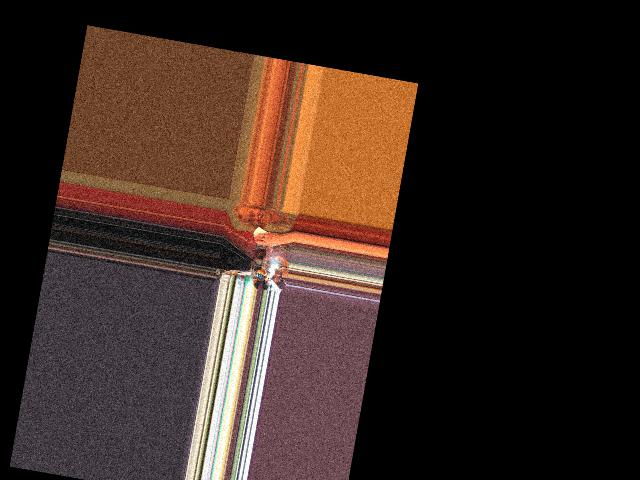beer: (251, 232, 268, 272)
